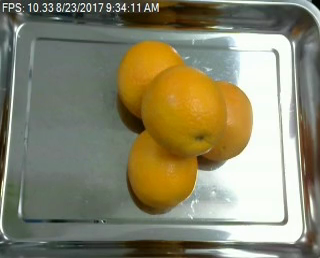Orange: (141, 66, 226, 155), (116, 39, 187, 121), (128, 129, 198, 208), (198, 81, 253, 159)
